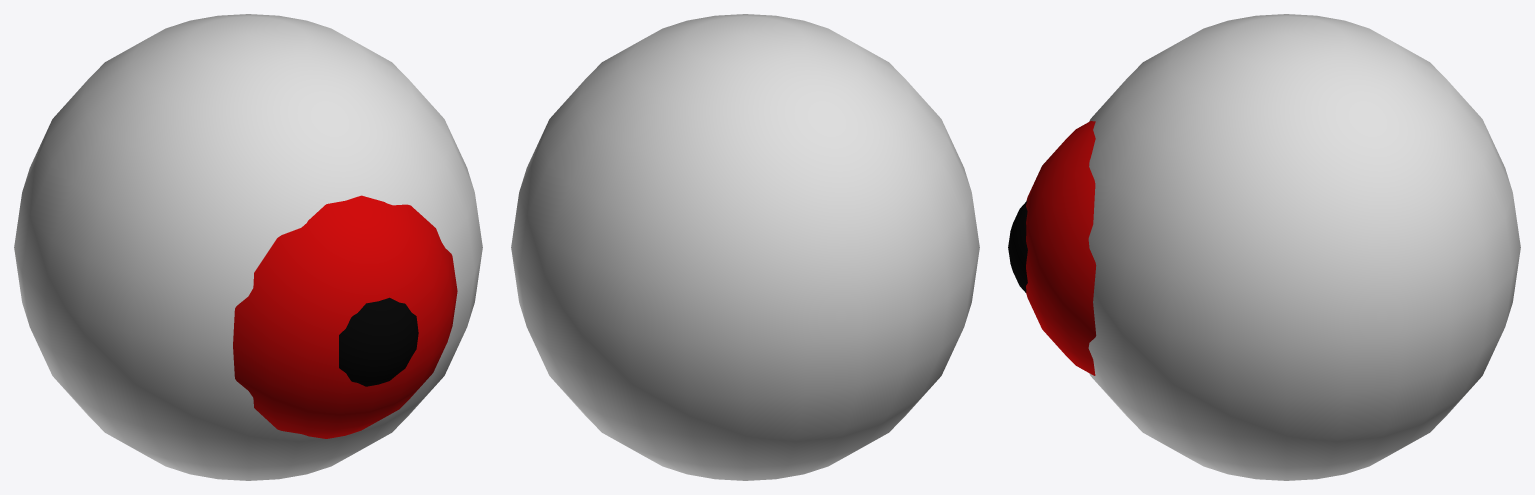
The model's file is eye.fbx.
3 renders of one model, left to right at view 1: azimuth 30°, elevation 25°; view 2: azimuth 150°, elevation 25°; view 3: azimuth 270°, elevation 25°, orthographic.
Parts seen in each view (by area): view 1: Kugel, Kugel_1; view 2: Kugel; view 3: Kugel, Kugel_1.
Part boxes in pixels (bbox=[...]): Kugel: bbox=[14, 14, 482, 480]; Kugel_1: bbox=[339, 297, 418, 386]; Kugel: bbox=[511, 14, 979, 480]; Kugel: bbox=[1026, 14, 1520, 480]; Kugel_1: bbox=[1008, 201, 1027, 292].
Bounding box in the file's own units: 200 × 200 × 219.
